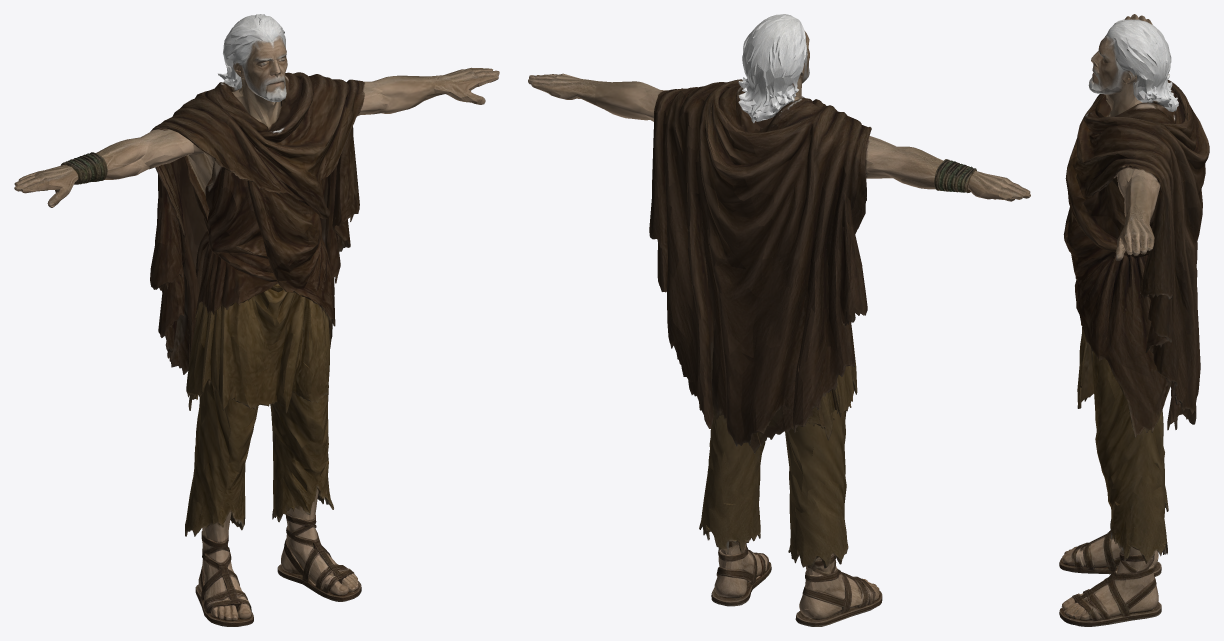
The model's file is moroni-optimized.glb.
3 renders of one model, left to right at view 1: azimuth 30°, elevation 25°; view 2: azimuth 150°, elevation 25°; view 3: azimuth 270°, elevation 25°, orthographic. The views are drawn at different scales.
Parts seen in each view (by area): view 1: output_unwrapped; view 2: output_unwrapped; view 3: output_unwrapped.
Boxes of the visible parts, x1,y1,x2,y2 form: output_unwrapped: [14, 14, 499, 626]; output_unwrapped: [528, 14, 1030, 626]; output_unwrapped: [1059, 14, 1209, 626].
Size of the model in its own units: 1.69 by 1.9 by 0.4556.
1 material, 1 textured.
